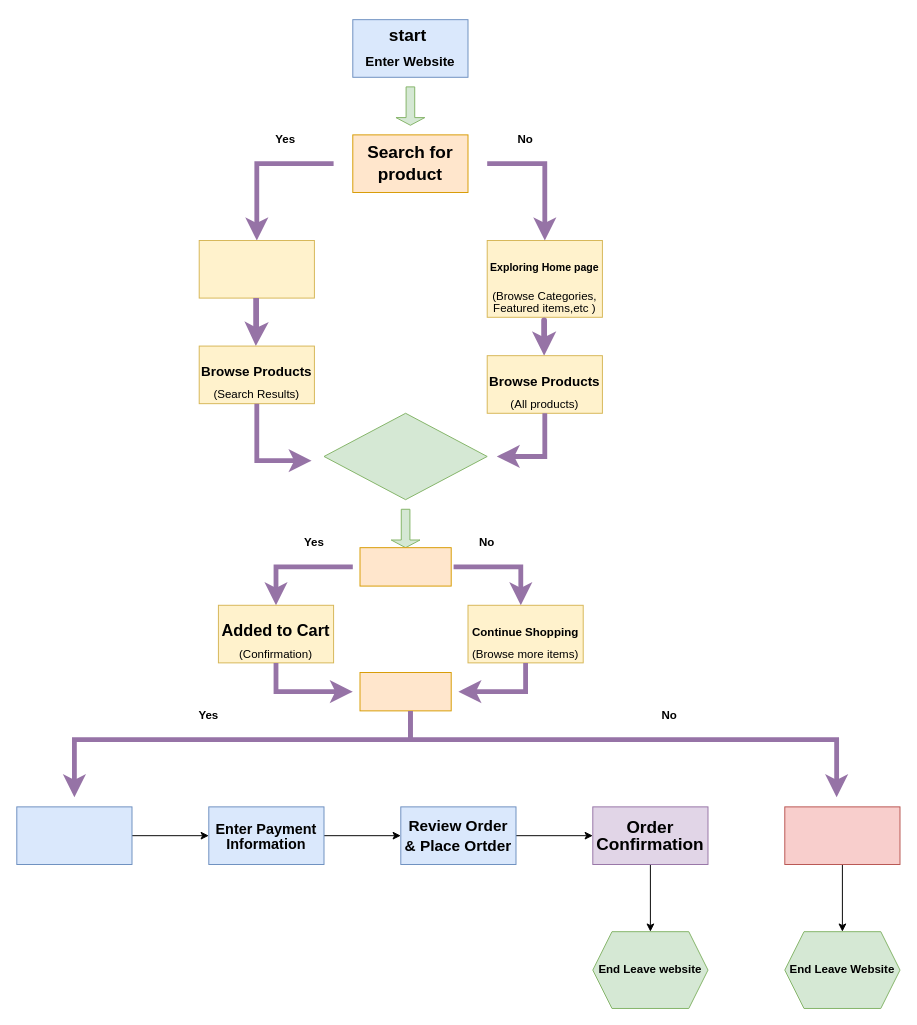
Some shapes in this 917 by 1025 pixel diagram are drawn without their labels. Here are the shapes that lost their labels. From the top down, the box of each, then its label:
(198, 240, 314, 298): Enter search (Enter keyword)
(323, 412, 487, 500): View Specific Product Page
(359, 547, 451, 586): Add to cart?
(359, 672, 451, 711): Checkout?
(16, 806, 132, 864): View Cart
(784, 806, 900, 864): Continue Shopping / Leave Website
